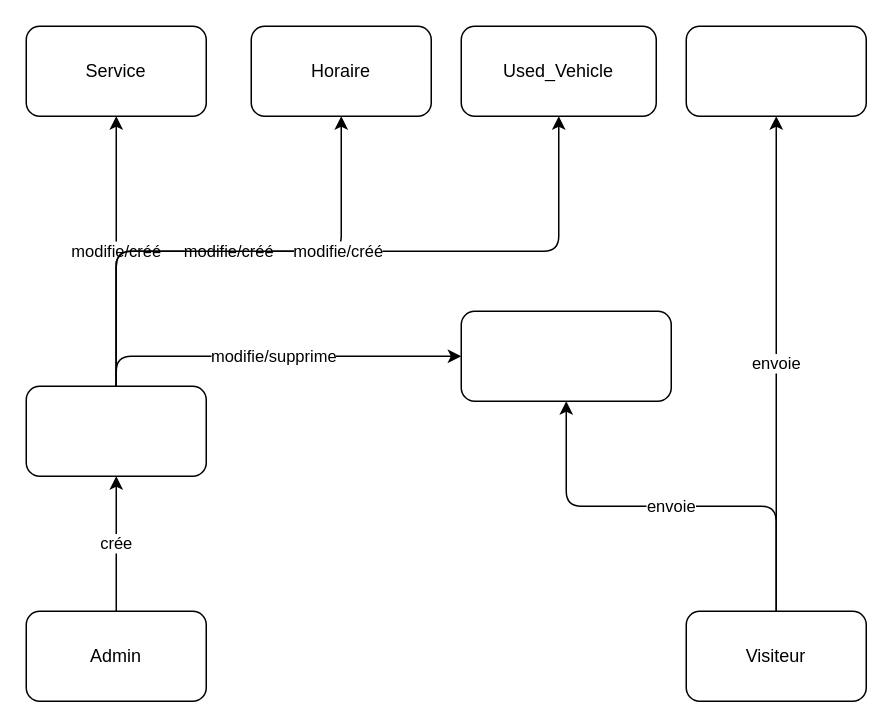
Some shapes in this 893 by 728 pixel diagram are drawn without their labels. Each missing label, with the centre of its shape:
Feedback: the point at 775,70
Formulaire_Contact: the point at 565,355
Utilisateur: the point at 115,430
